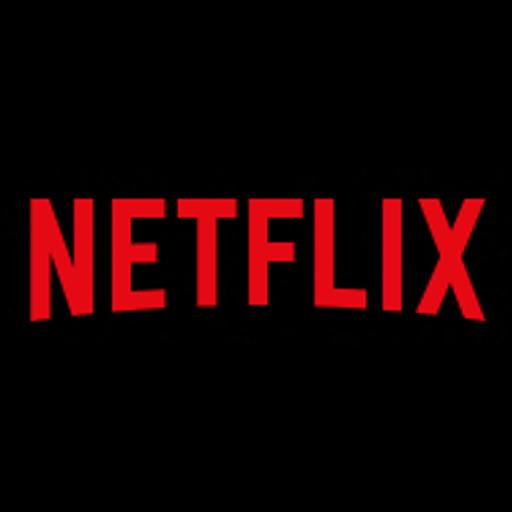Netflix: (0, 166, 511, 346)
